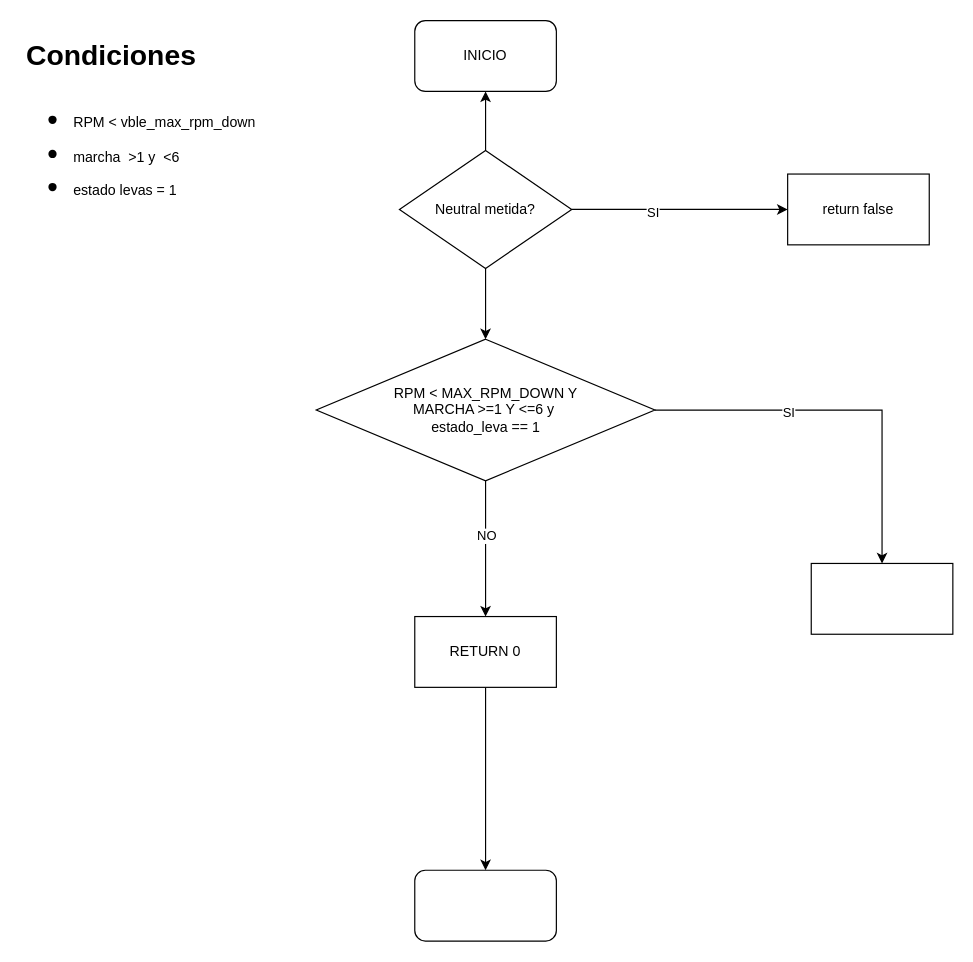
Image size: 973x962. Some labels were removed from this diagram. The shapes that lost their labels are listed below. From the top down, each one's centre as x and y in pixels, then its label:
At point (881, 598): "RETURN 1".
At point (485, 905): "FIN".
